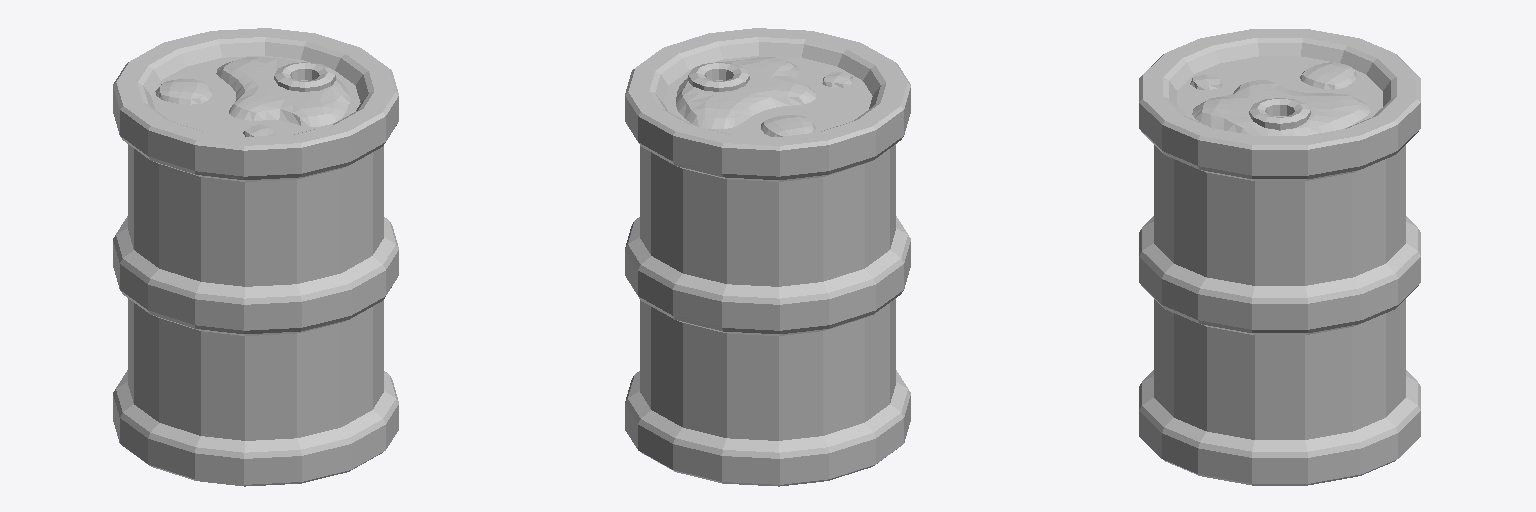
File: Fuel_A_Barrel_Dirty.obj
The picture shows the model from 3 angles: view 1: azimuth 30°, elevation 25°; view 2: azimuth 150°, elevation 25°; view 3: azimuth 270°, elevation 25°; orthographic projection.
Visible parts, largest first — view 1: Fuel_A_Barrel_Dirty; view 2: Fuel_A_Barrel_Dirty; view 3: Fuel_A_Barrel_Dirty.
Part boxes in pixels (bbox=[...]): Fuel_A_Barrel_Dirty: bbox=[113, 28, 398, 486]; Fuel_A_Barrel_Dirty: bbox=[625, 28, 910, 486]; Fuel_A_Barrel_Dirty: bbox=[1139, 29, 1420, 485].
Size of the model in its own units: 0.75 by 1.01 by 0.75.